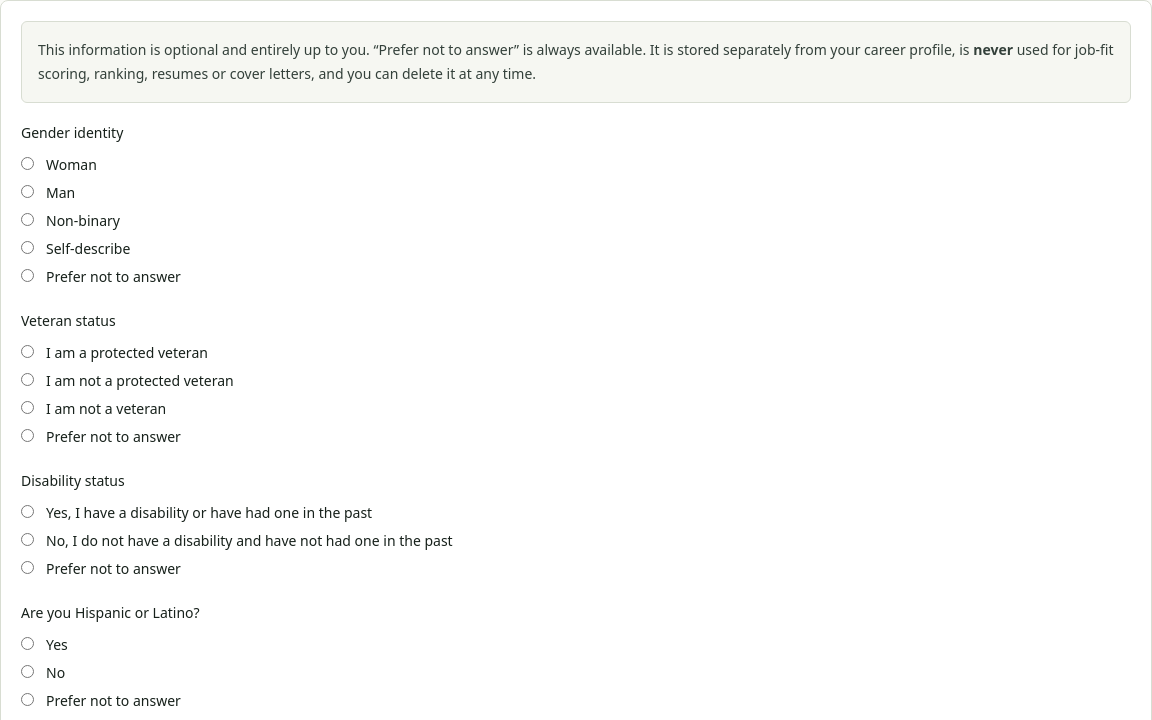
DemographicsForm › reveals a self-describe field only when Self-describe is chosen
The width and height of the screenshot is (1152, 720).
Expected: the field labelled "how would you describe your gender" is not shown
What coordinates should you click on to do the following:
click the radio button labelled "Self-describe"
I would click on:
 (28, 248)
Its box is top-left (21, 241), bottom-right (34, 254).
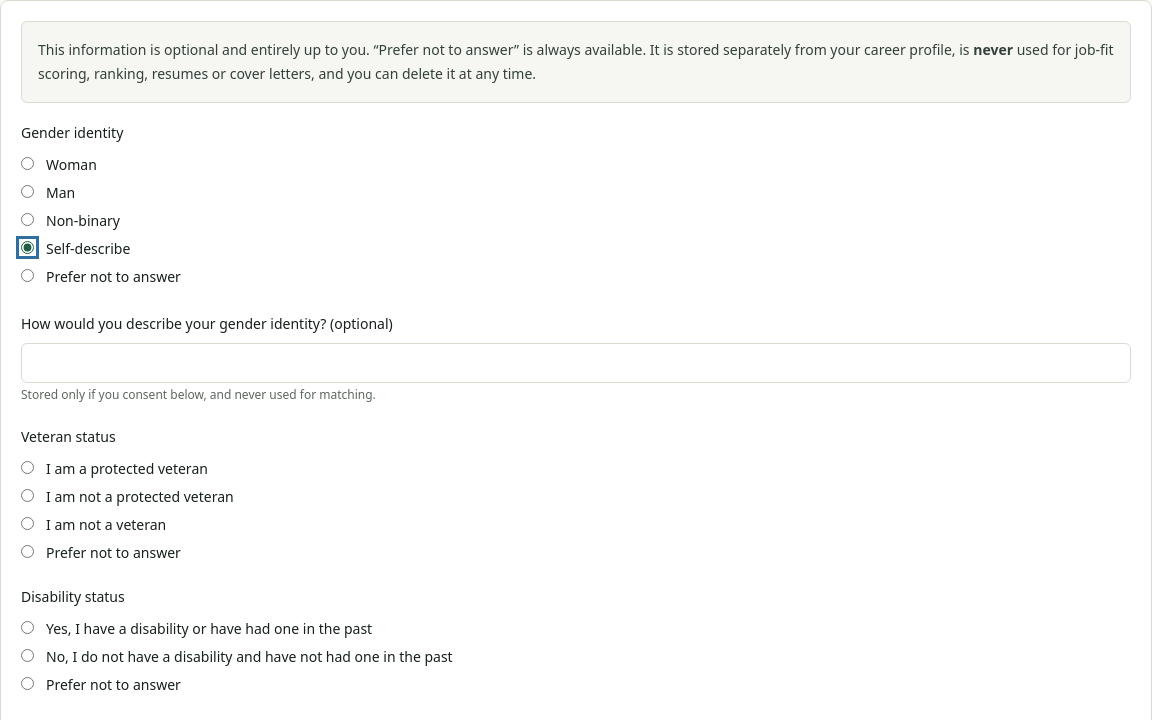
Expected: the field labelled "How would you describe your gender" is shown, top-left (21, 343), bottom-right (1131, 383)
